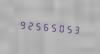five: (33, 18, 40, 33), (49, 19, 56, 34), (65, 21, 72, 35)
nine: (17, 17, 24, 31)
six: (41, 19, 48, 33)
three: (73, 22, 80, 36)
two: (25, 17, 32, 32)
zero: (57, 20, 64, 35)
